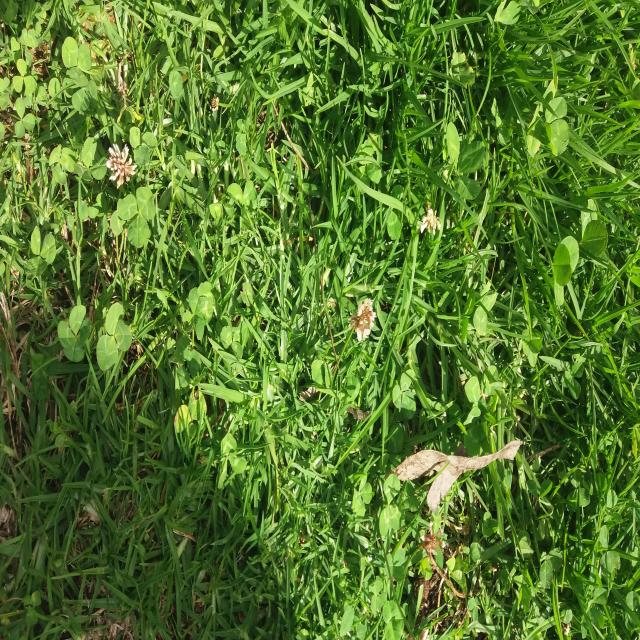Four Leaf Clover: (57, 305, 91, 362), (351, 472, 372, 518)
